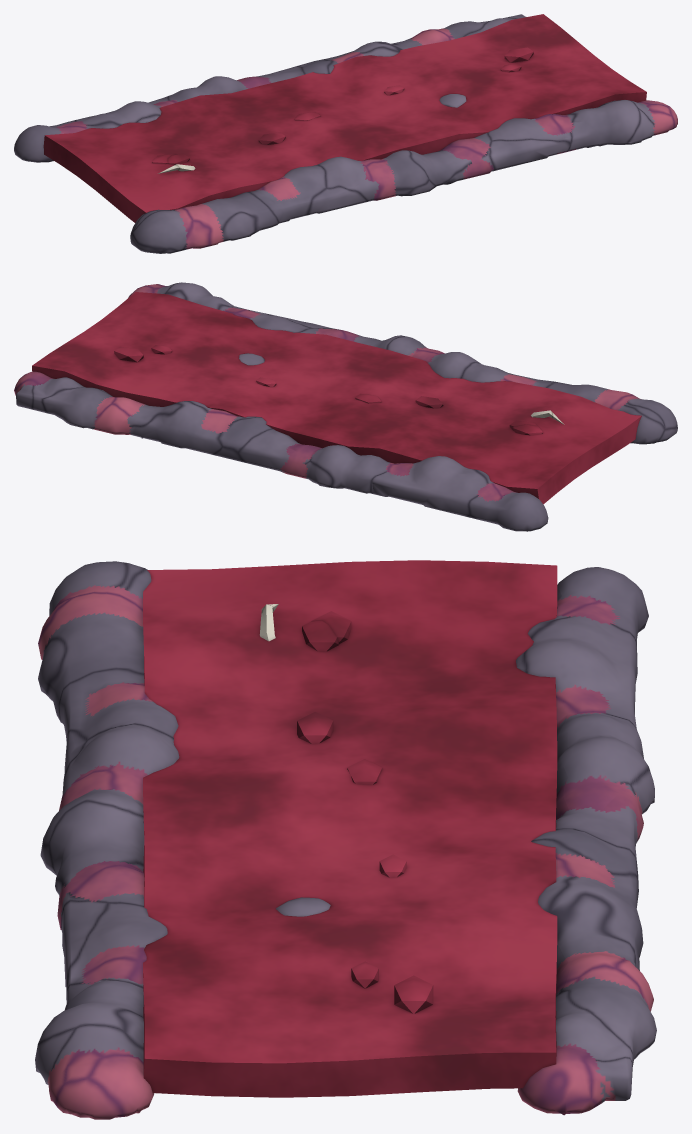
Rendered from rio_sangre_segmento.fbx.
The picture shows the model from 3 angles, top to bottom: view 1: azimuth 30°, elevation 25°; view 2: azimuth 150°, elevation 25°; view 3: azimuth 270°, elevation 25°; orthographic projection. The views are drawn at different scales.
Parts seen in each view (by area): view 1: sangre, orillas; view 2: sangre, orillas; view 3: sangre, orillas.
Part boxes in pixels (x1,y1,x2,y2): sangre: (43,14,646,222); orillas: (14,14,677,253); sangre: (32,292,641,504); orillas: (14,282,677,531); sangre: (143,560,557,1097); orillas: (35,561,656,1119).
Bounding box in the file's own units: 8 × 0.5014 × 4.
Materials: 1 (1 with a texture image).
